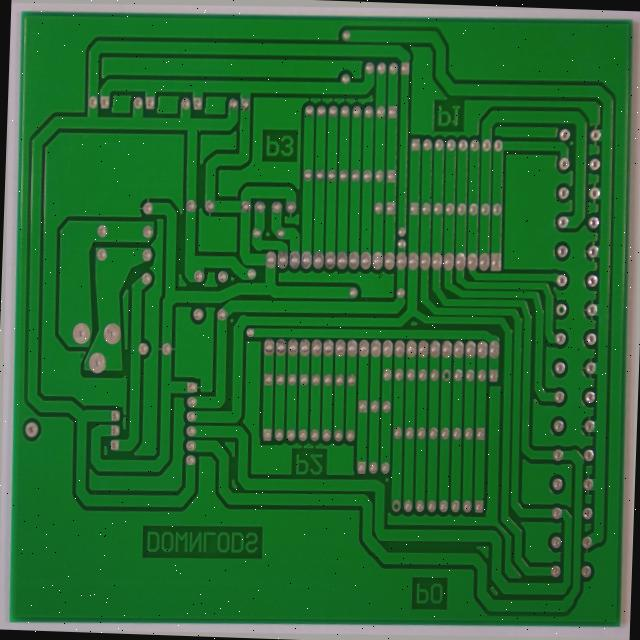missing_hole: (439, 368, 453, 388), (558, 304, 571, 323), (387, 502, 400, 519)
